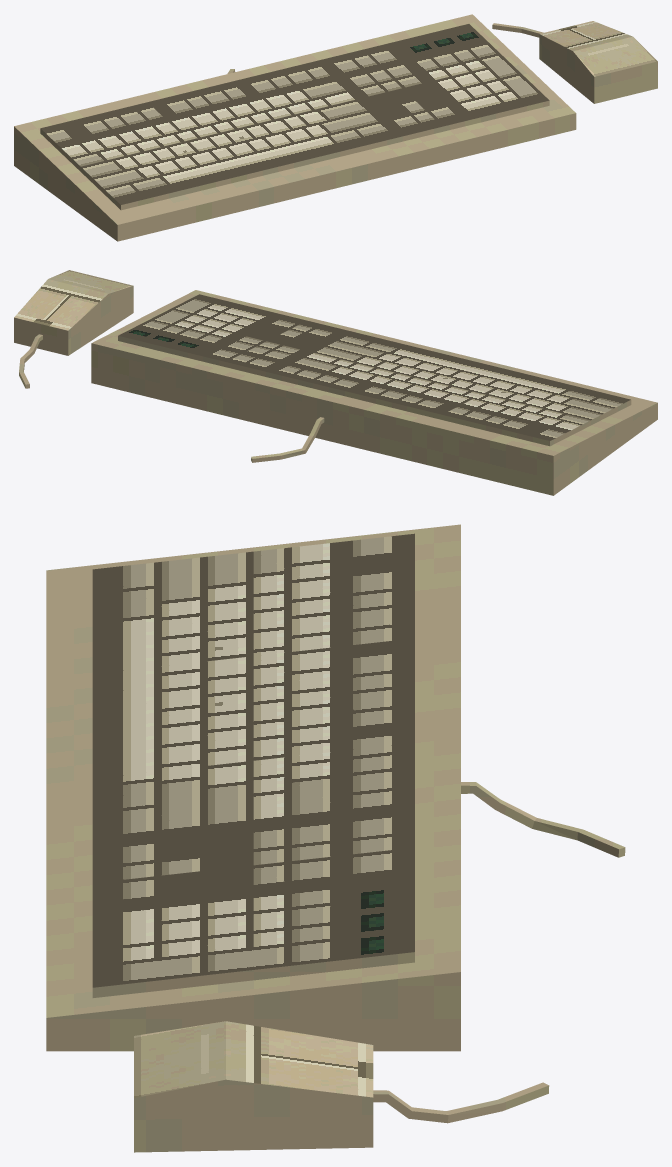
The model's file is keyboard.glb.
3 renders of one model, top to bottom at view 1: azimuth 30°, elevation 25°; view 2: azimuth 150°, elevation 25°; view 3: azimuth 270°, elevation 25°, orthographic. The views are drawn at different scales.
Visible parts, largest first — view 1: keyboard; view 2: keyboard; view 3: keyboard.
Boxes of the visible parts, x1,y1,x2,y2 form: keyboard: (14, 14, 657, 241); keyboard: (14, 270, 657, 495); keyboard: (46, 524, 625, 1152).
Bounding box in the file's own units: 0.564 × 0.0407 × 0.2515.
3 materials, 3 textured.
